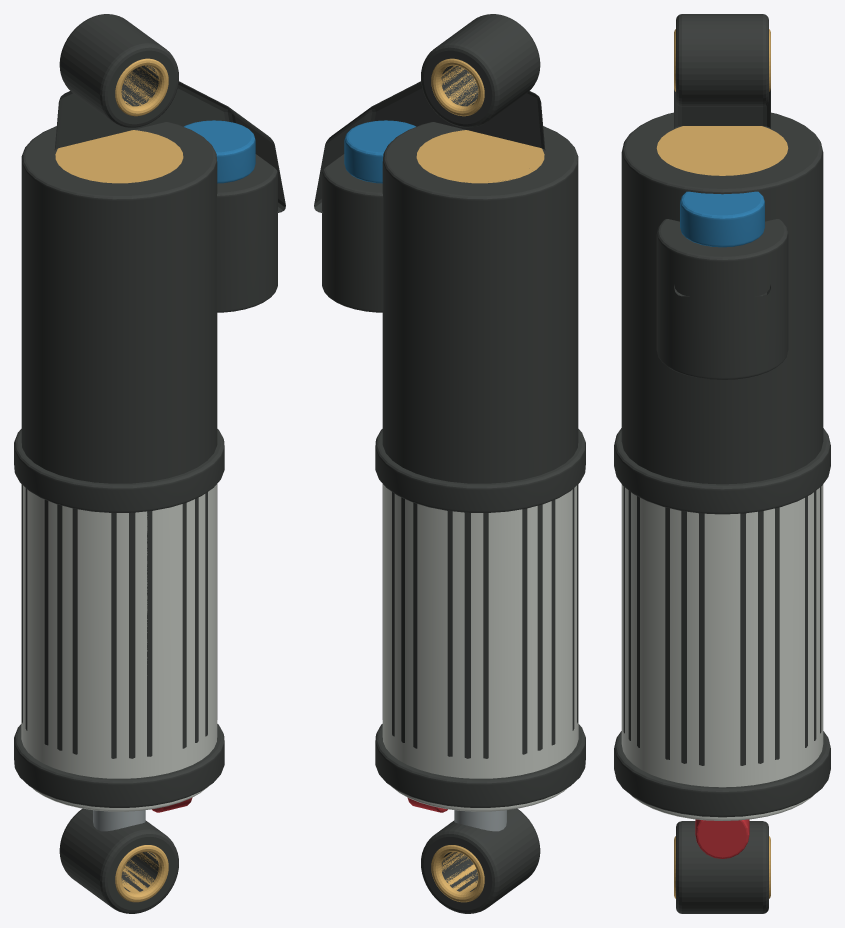
The model's file is fox-float-x2-factory-my26--8e576822.glb.
3 renders of one model, left to right at view 1: azimuth 30°, elevation 25°; view 2: azimuth 150°, elevation 25°; view 3: azimuth 270°, elevation 25°, orthographic. The views are drawn at different scales.
Parts seen in each view (by area): view 1: fox-float-x2-factory-my26--8e576822__link, fox-float-x2-factory-my26--8e576822__frame, fox-float-x2-factory-my26--8e576822__stanchions, fox-float-x2-factory-my26--8e576822__adjuster, fox-float-x2-factory-my26--8e576822__bolts; view 2: fox-float-x2-factory-my26--8e576822__link, fox-float-x2-factory-my26--8e576822__frame, fox-float-x2-factory-my26--8e576822__stanchions, fox-float-x2-factory-my26--8e576822__adjuster, fox-float-x2-factory-my26--8e576822__bolts; view 3: fox-float-x2-factory-my26--8e576822__link, fox-float-x2-factory-my26--8e576822__frame, fox-float-x2-factory-my26--8e576822__stanchions, fox-float-x2-factory-my26--8e576822__adjuster, fox-float-x2-factory-my26--8e576822__rebound.
Part boxes in pixels (x1,y1,x2,y2): fox-float-x2-factory-my26--8e576822__link: (14,14,285,913); fox-float-x2-factory-my26--8e576822__frame: (21,484,217,811); fox-float-x2-factory-my26--8e576822__stanchions: (55,58,183,902); fox-float-x2-factory-my26--8e576822__adjuster: (184,120,255,183); fox-float-x2-factory-my26--8e576822__bolts: (93,810,145,831); fox-float-x2-factory-my26--8e576822__link: (314,14,585,913); fox-float-x2-factory-my26--8e576822__frame: (382,484,578,811); fox-float-x2-factory-my26--8e576822__stanchions: (416,58,544,902); fox-float-x2-factory-my26--8e576822__adjuster: (344,120,415,183); fox-float-x2-factory-my26--8e576822__bolts: (454,810,506,831); fox-float-x2-factory-my26--8e576822__link: (614,14,830,913); fox-float-x2-factory-my26--8e576822__frame: (621,484,823,820); fox-float-x2-factory-my26--8e576822__stanchions: (656,29,788,898); fox-float-x2-factory-my26--8e576822__adjuster: (680,191,764,247); fox-float-x2-factory-my26--8e576822__rebound: (695,819,749,858).
Size of the model in its own units: 0.074 by 0.254 by 0.056.
